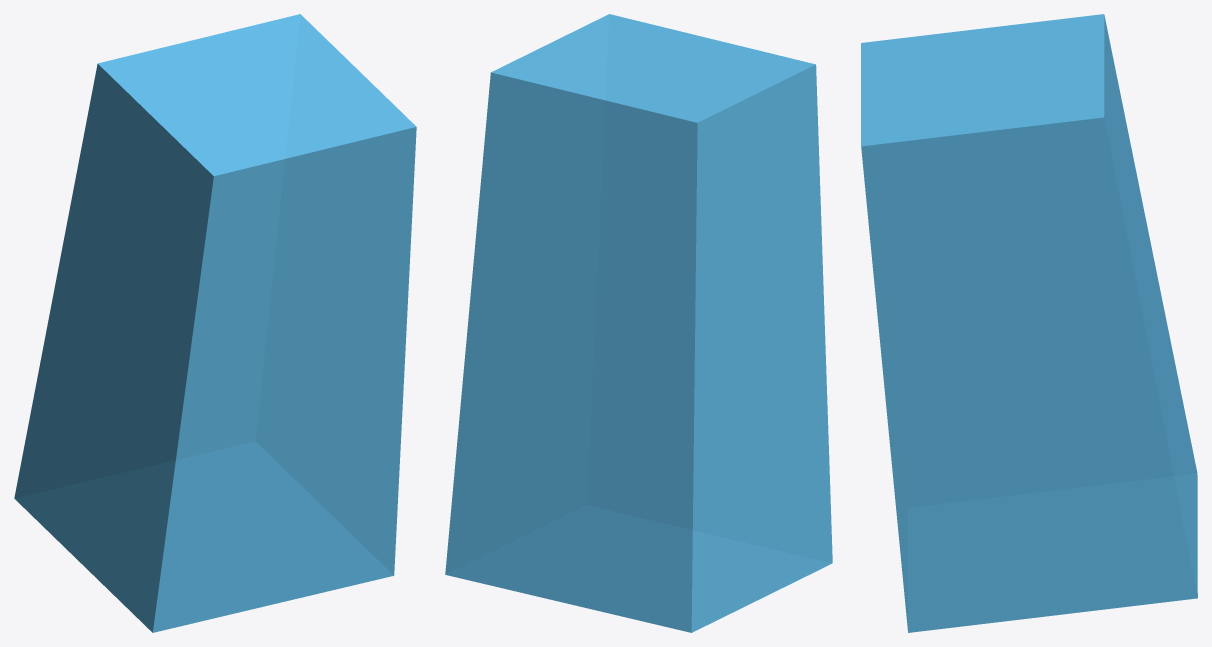
File: Event_421278790_HBrechit_0.fbx
3 renders of one model, left to right at view 1: azimuth 30°, elevation 25°; view 2: azimuth 150°, elevation 25°; view 3: azimuth 270°, elevation 25°, orthographic. The views are drawn at different scales.
Visible parts, largest first — view 1: Model; view 2: Model; view 3: Model.
Part boxes in pixels (<box>): Model: <box>14,14,416,632</box>; Model: <box>445,14,832,632</box>; Model: <box>861,14,1197,632</box>.
Size of the model in its own units: 0.4777 by 0.9317 by 0.5515.
